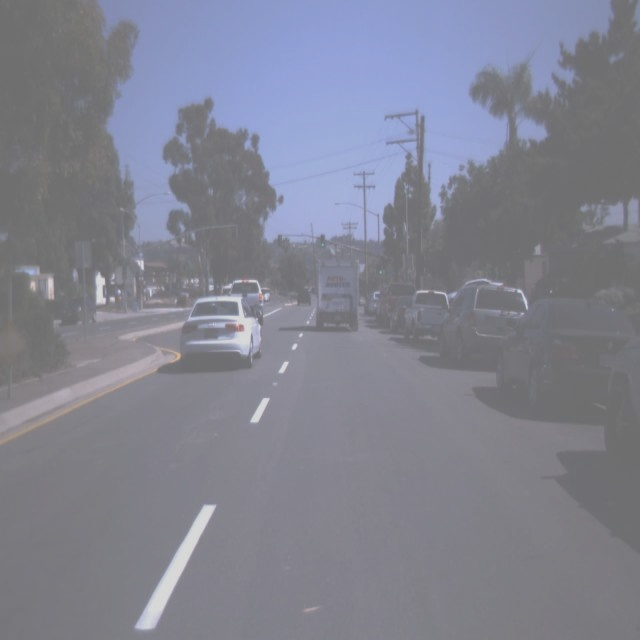go: (320, 234, 326, 247), (378, 261, 383, 275)
go traffic light: (320, 234, 326, 247), (378, 261, 383, 275)
